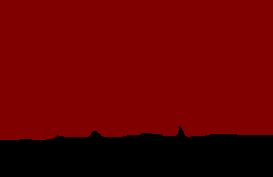Sky: (1, 1, 272, 176)
